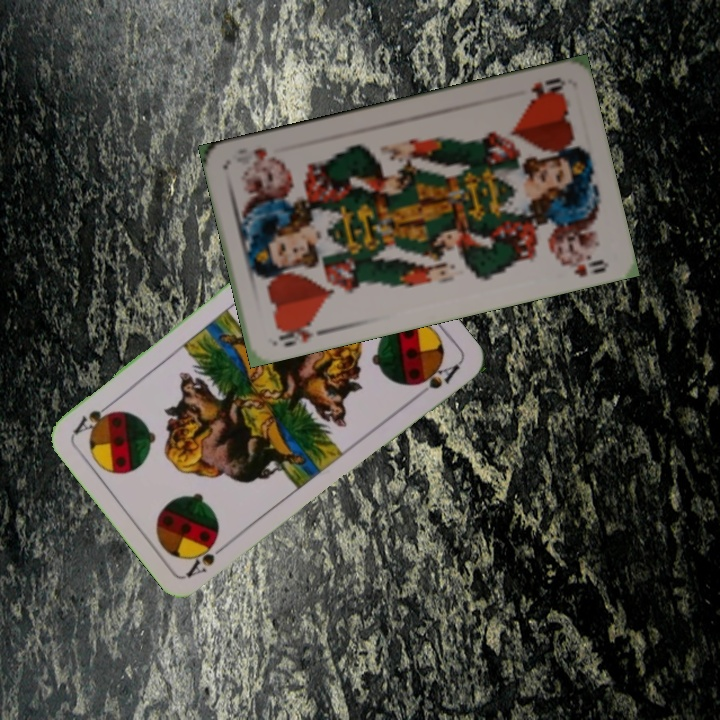HO: (273, 316, 317, 349), (525, 73, 567, 102)
SA: (182, 537, 233, 580)
